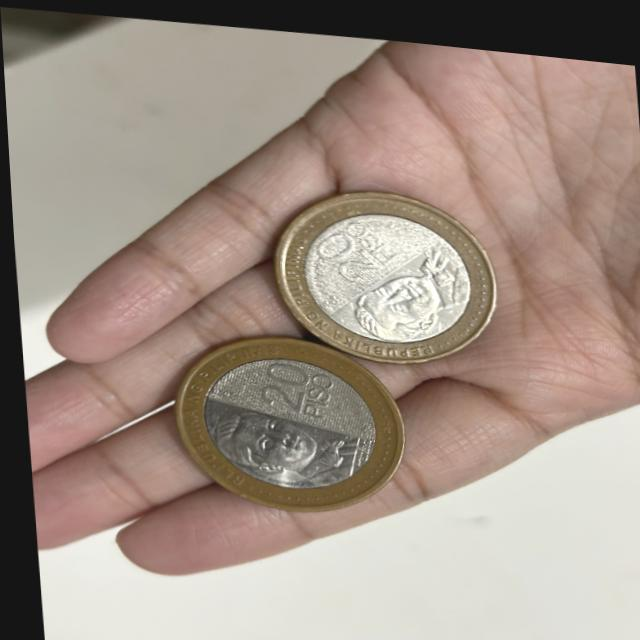20_New_Front: (310, 210, 397, 283), (243, 352, 338, 418)
